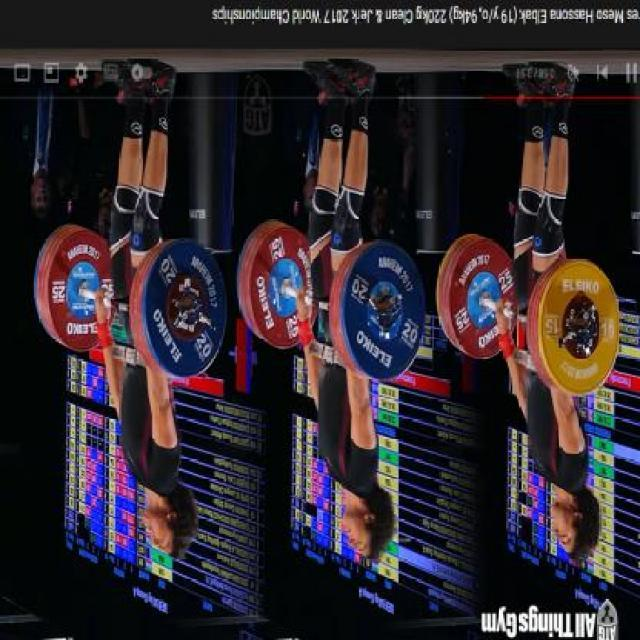Barbell: (374, 283, 409, 331), (573, 310, 609, 350), (182, 286, 210, 328)
